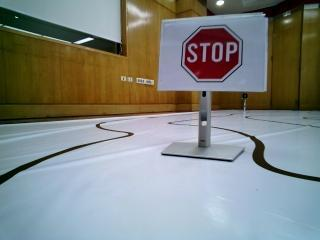stop: (162, 25, 254, 90)
